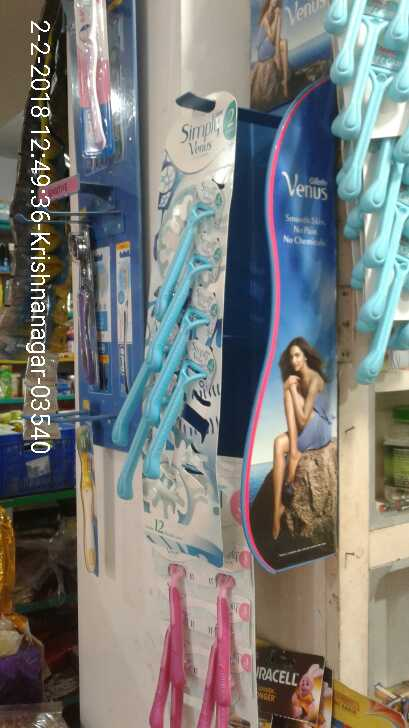reject: (155, 237, 208, 294)
